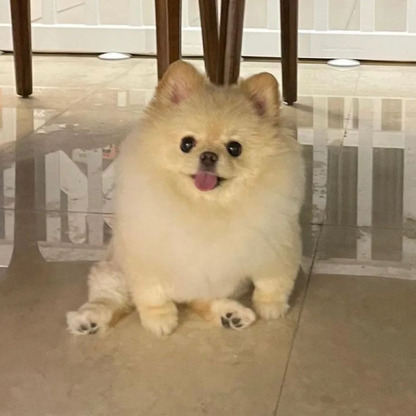Pomeranian: (51, 61, 321, 353)
